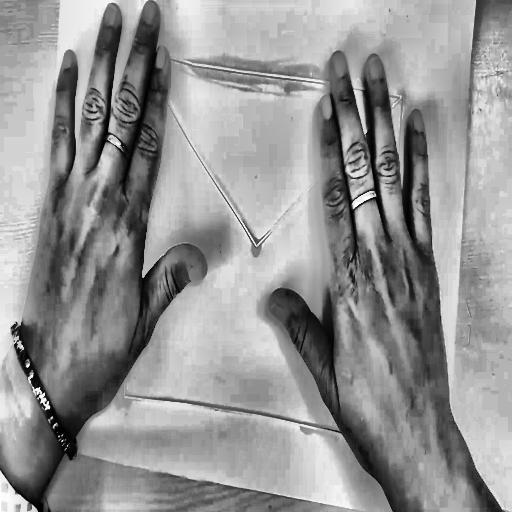bottom_left: (47, 433, 56, 450)
envelop: (115, 44, 411, 456)
